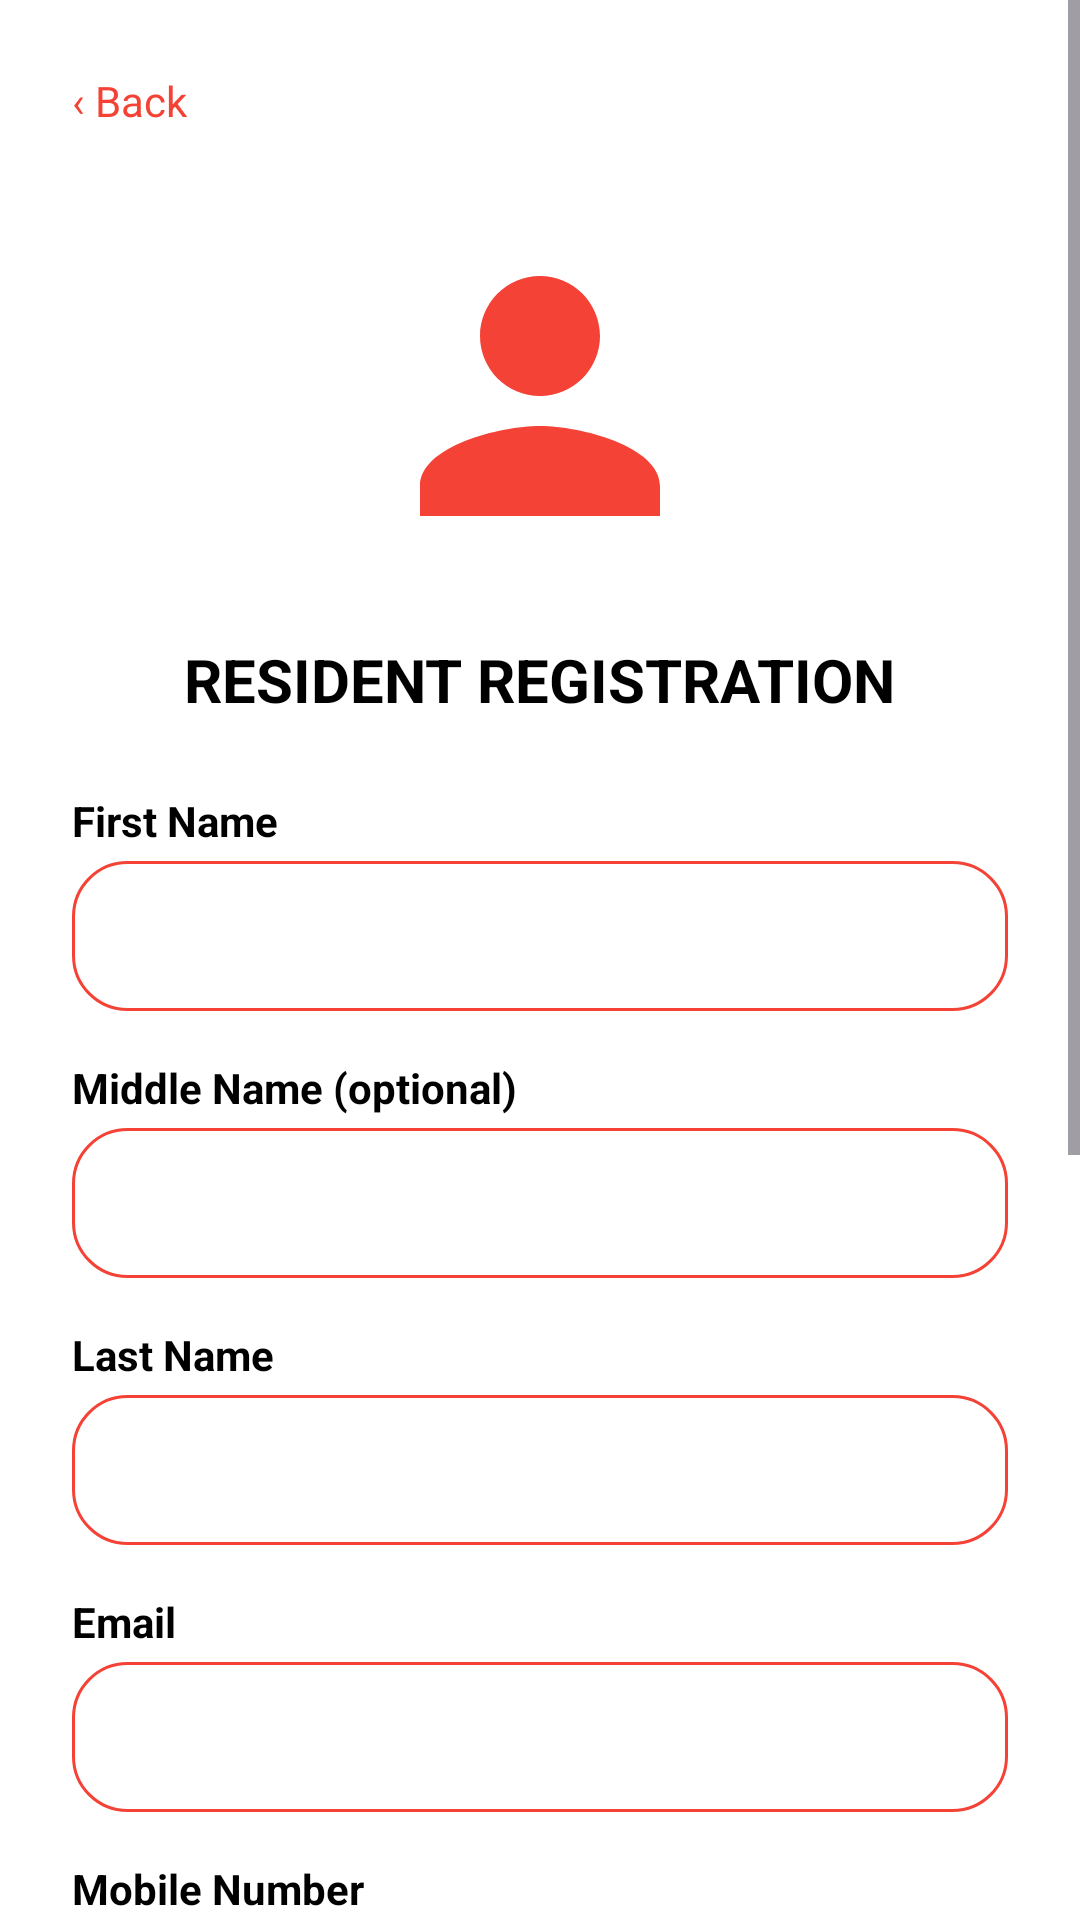

Icon click points for this 1080x1920 phone screenshot, format (x,y):
user: (540,396)
